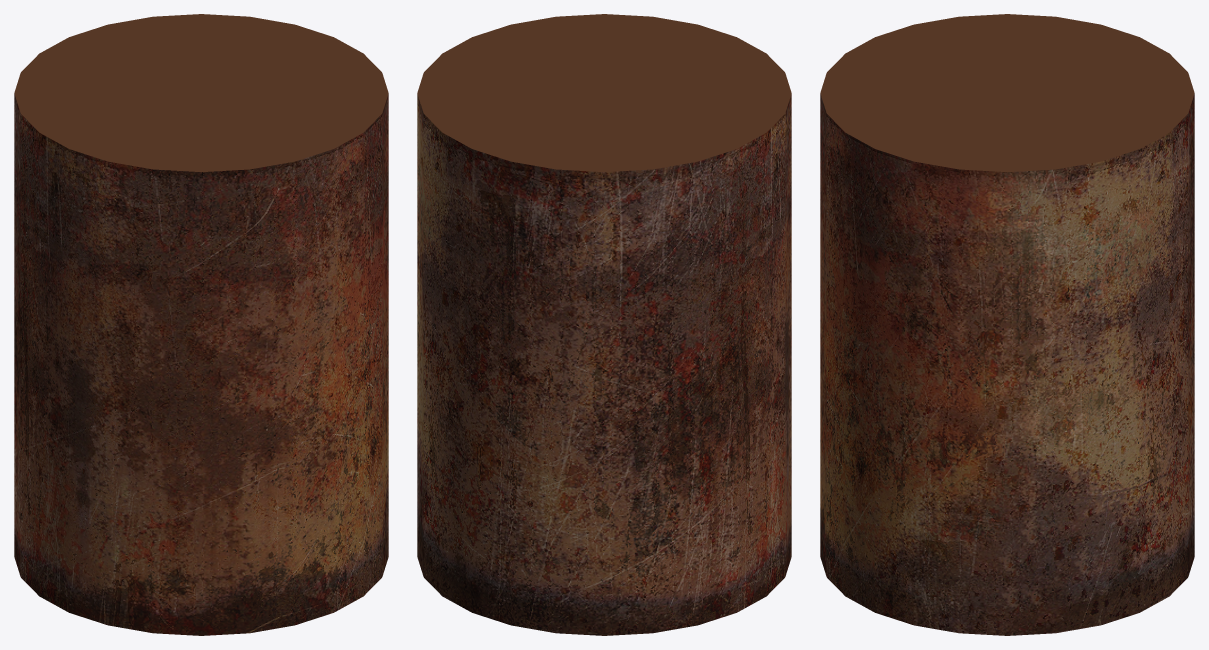
The model's file is barrel.obj.
The picture shows the model from 3 angles, left to right: view 1: azimuth 30°, elevation 25°; view 2: azimuth 150°, elevation 25°; view 3: azimuth 270°, elevation 25°; orthographic projection.
Visible parts, largest first — view 1: Cylinder02; view 2: Cylinder02; view 3: Cylinder02.
Part boxes in pixels (<box>): Cylinder02: <box>14,14,388,635</box>; Cylinder02: <box>417,14,791,635</box>; Cylinder02: <box>820,14,1194,635</box>.
Bounding box in the file's own units: 39.5 × 54 × 39.5.
Materials: 1 (1 with a texture image).
